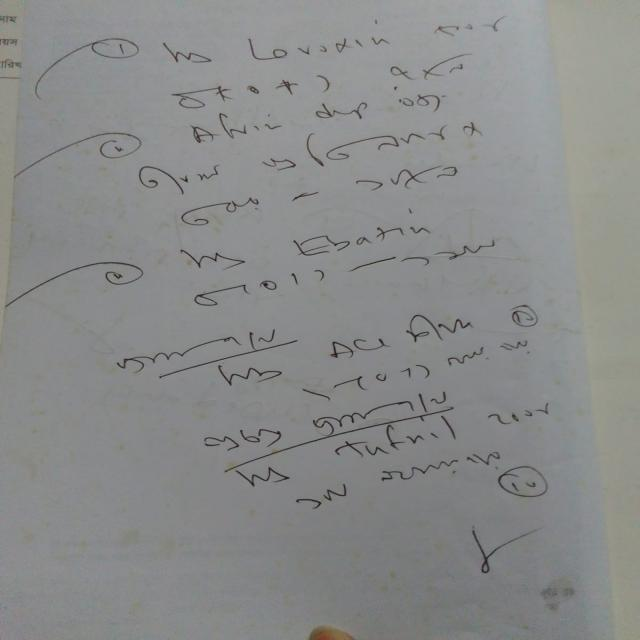Ebatin: (288, 224, 446, 261)
Levoxin: (238, 24, 400, 61)
